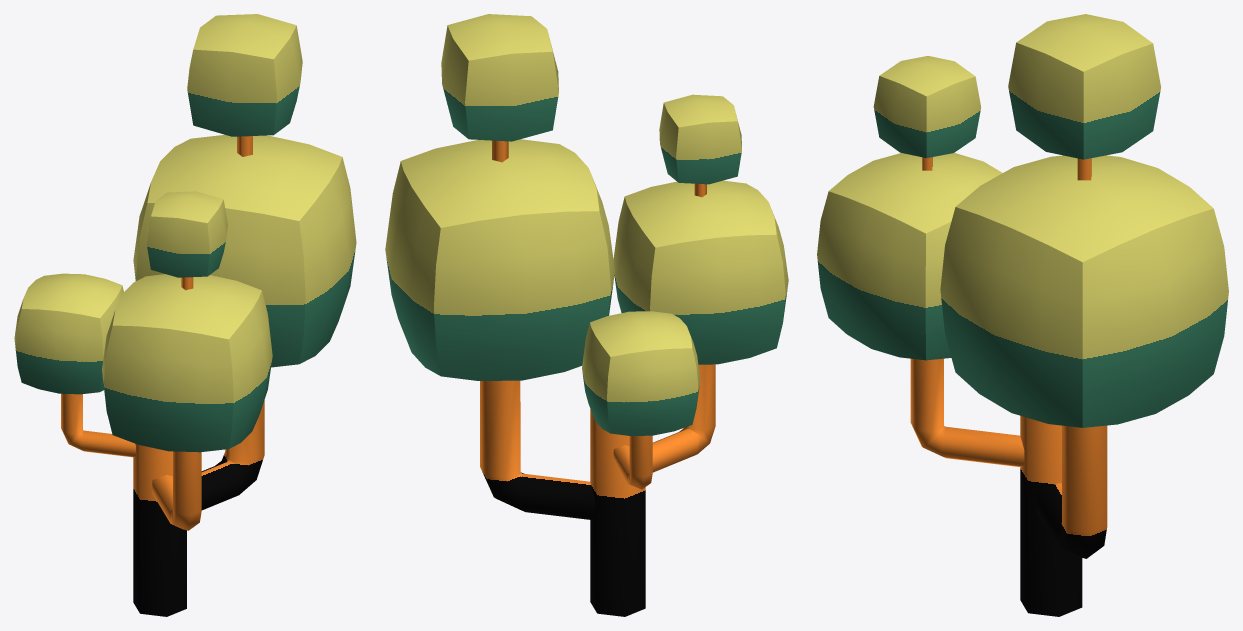
The model's file is tree_square4.obj.
The picture shows the model from 3 angles, left to right: view 1: azimuth 30°, elevation 25°; view 2: azimuth 150°, elevation 25°; view 3: azimuth 270°, elevation 25°; orthographic projection. The views are drawn at different scales.
Visible parts, largest first — view 1: Tree.036_Circle.026; view 2: Tree.036_Circle.026; view 3: Tree.036_Circle.026.
Part boxes in pixels (left/top/right/bottom): Tree.036_Circle.026: left=14, top=14, right=356, bottom=616; Tree.036_Circle.026: left=385, top=14, right=788, bottom=616; Tree.036_Circle.026: left=817, top=14, right=1228, bottom=616.
Bounding box in the file's own units: 3.52 × 5.79 × 3.41.
Materials: 1 (1 with a texture image).
